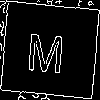M: (24, 24, 67, 74)
